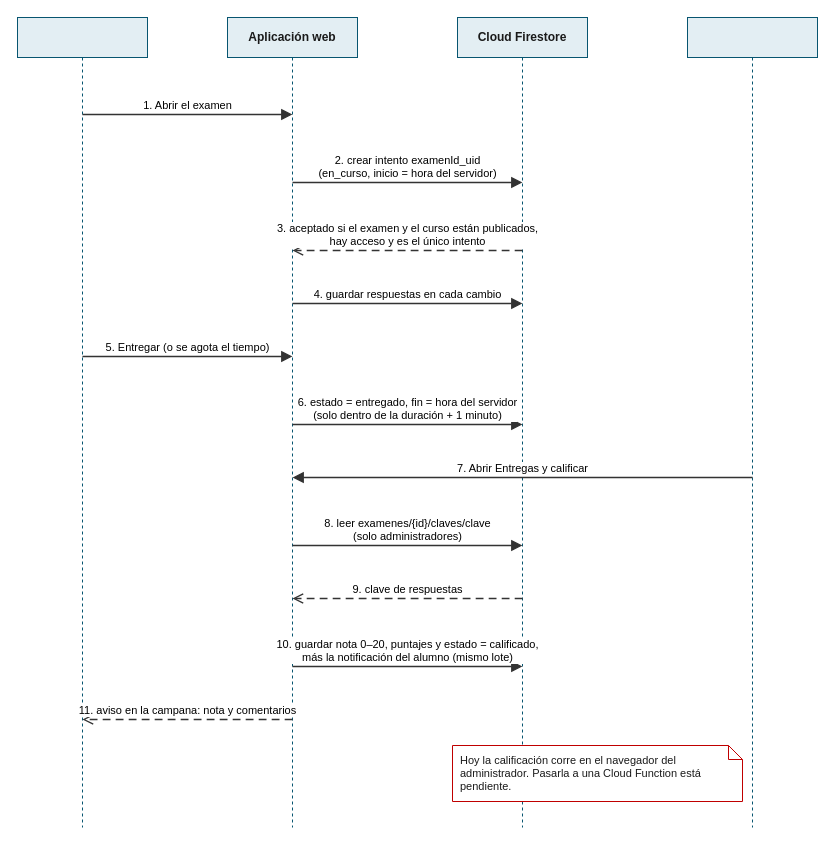
This 835x845 diagram has some shape labels left out. Each missing label, with the box of its shape:
Administrador: (686, 16, 818, 828)
Alumno: (16, 16, 148, 828)
